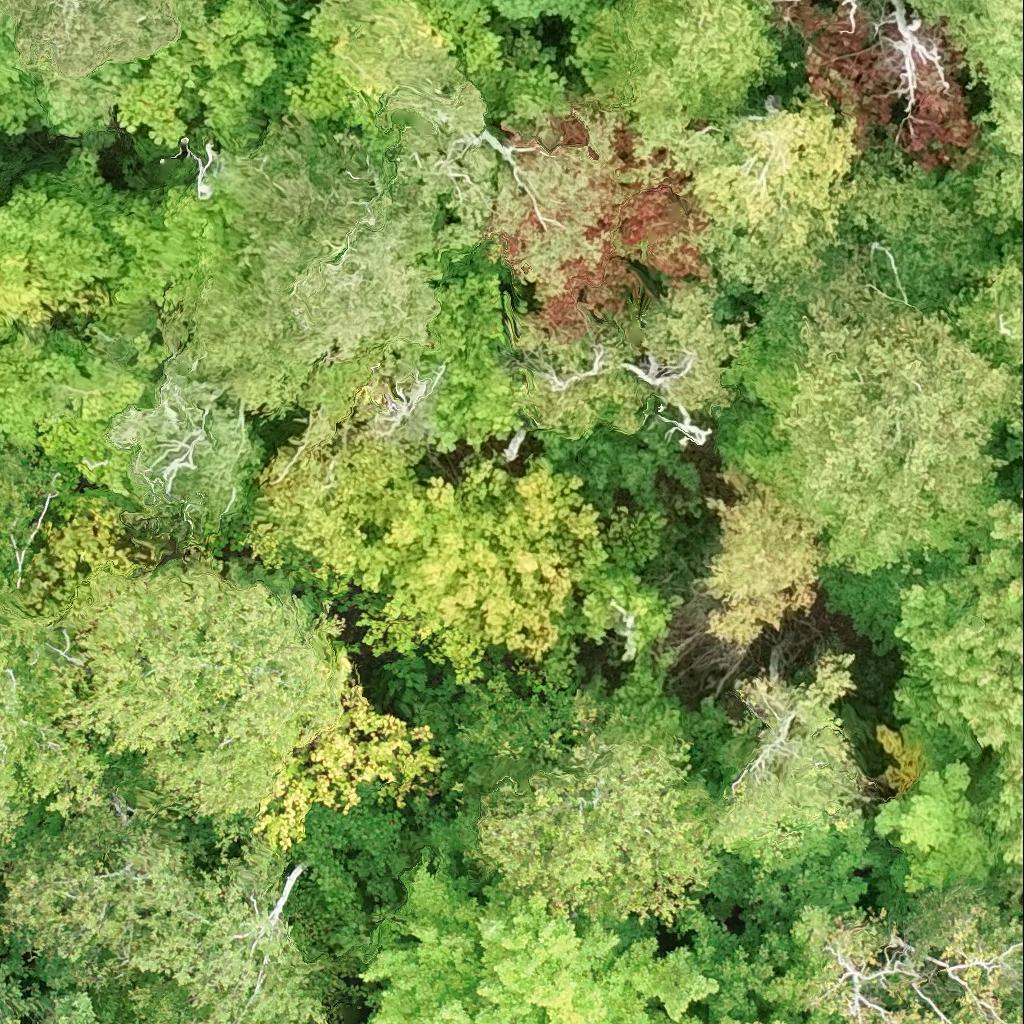crown: (257, 50, 662, 364), (24, 496, 354, 851), (240, 429, 679, 688), (746, 267, 1023, 575), (358, 856, 716, 1023), (481, 683, 721, 928), (894, 490, 1023, 867), (707, 651, 870, 943), (0, 800, 203, 1023), (0, 450, 113, 847), (128, 837, 342, 1023), (671, 92, 861, 292), (566, 0, 785, 149), (87, 0, 291, 155), (0, 149, 166, 332), (812, 888, 1023, 1023), (0, 328, 169, 496), (0, 0, 205, 133), (106, 380, 266, 541), (915, 0, 1023, 236), (692, 463, 827, 640), (667, 910, 846, 1023), (838, 0, 949, 114), (960, 243, 1023, 362), (421, 0, 612, 34), (0, 967, 103, 1023), (1003, 417, 1023, 474), (0, 318, 20, 346), (0, 444, 7, 462), (369, 1021, 372, 1023)
